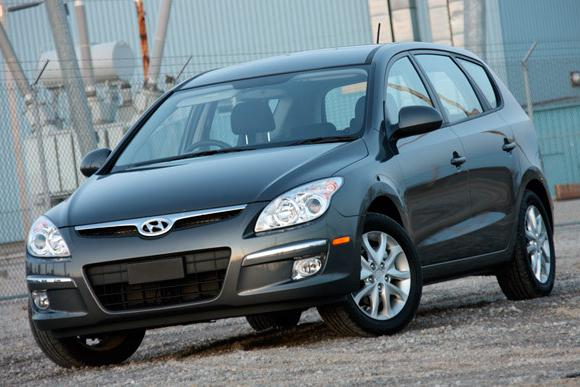Car: (19, 29, 570, 378)
